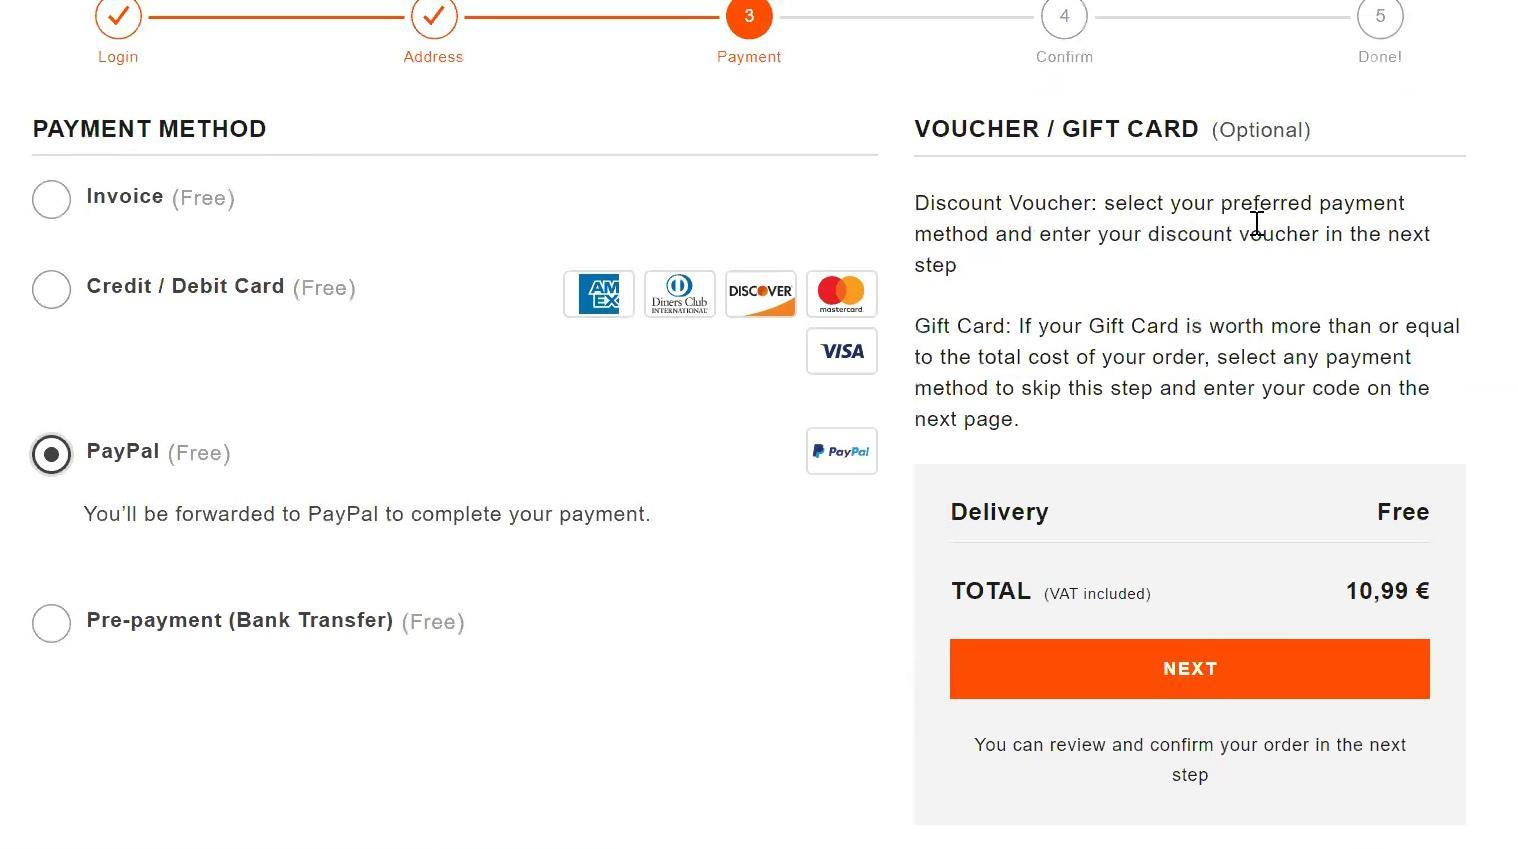button: (949, 638, 1436, 707)
label: (85, 603, 483, 635), (89, 272, 363, 306), (80, 436, 234, 471), (84, 183, 245, 214)
radio: (31, 266, 74, 318), (30, 433, 77, 480), (28, 601, 76, 645), (31, 178, 74, 221)
